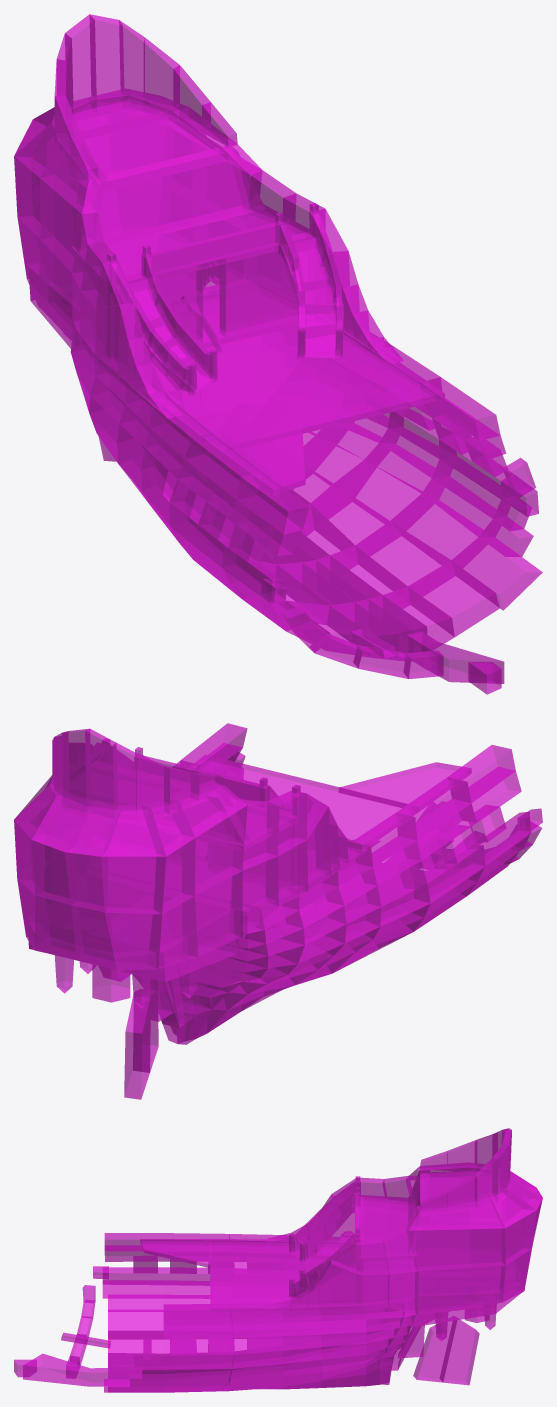
The model's file is SM_Prop_Wreck_Large_Back_01_Collision.fbx.
The picture shows the model from 3 angles, top to bottom: view 1: azimuth 30°, elevation 25°; view 2: azimuth 150°, elevation 25°; view 3: azimuth 270°, elevation 25°; orthographic projection. The views are drawn at different scales.
Parts seen in each view (by area): view 1: SM_Prop_Wreck_Large_Back_01_Collision; view 2: SM_Prop_Wreck_Large_Back_01_Collision; view 3: SM_Prop_Wreck_Large_Back_01_Collision.
Part boxes in pixels (x1,y1,x2,y2): SM_Prop_Wreck_Large_Back_01_Collision: (14,14,542,694); SM_Prop_Wreck_Large_Back_01_Collision: (14,723,542,1099); SM_Prop_Wreck_Large_Back_01_Collision: (14,1128,542,1392).
Bounding box in the file's own units: 1322 × 1727 × 3204.
